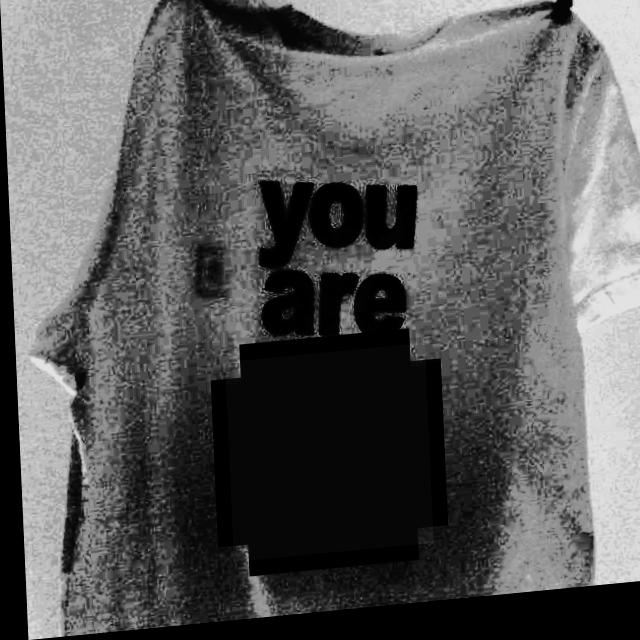qr_code: (221, 351, 428, 566)
